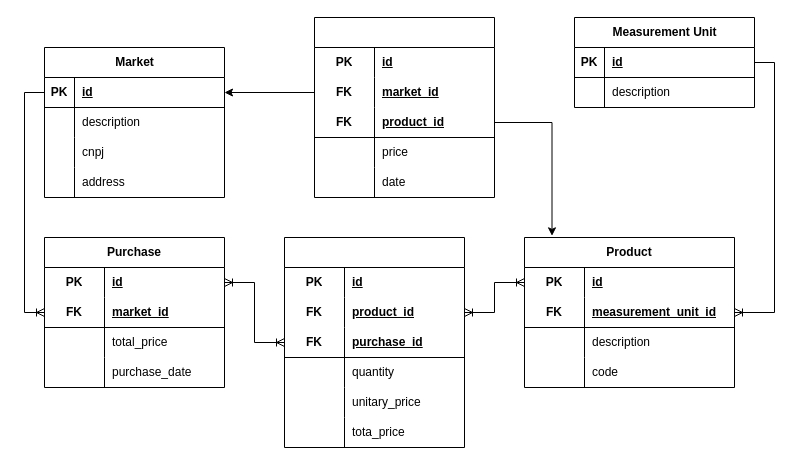
Some shapes in this 800 by 465 pixel diagram are drawn without their labels. The shapes that lost their labels are listed below. From the top down, each one's box as (x1, y1, x2, y2) in pixels, then its label:
(314, 16, 494, 198): PriceHistory
(284, 236, 464, 448): PurchaseProduct
